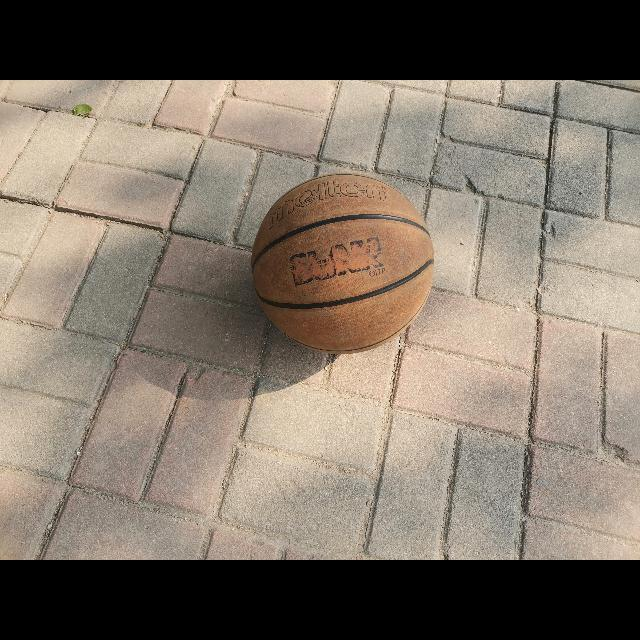basketball: (253, 174, 432, 354)
